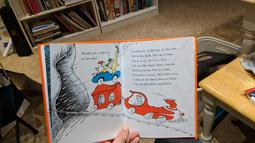text block: (128, 47, 182, 87), (78, 51, 111, 61)
